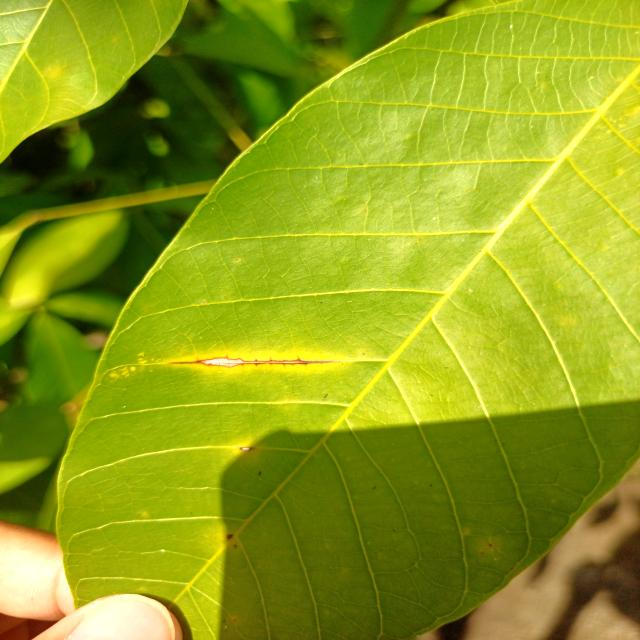Colletotrichum: (226, 534, 234, 539)
Corynespora: (168, 354, 339, 368)
